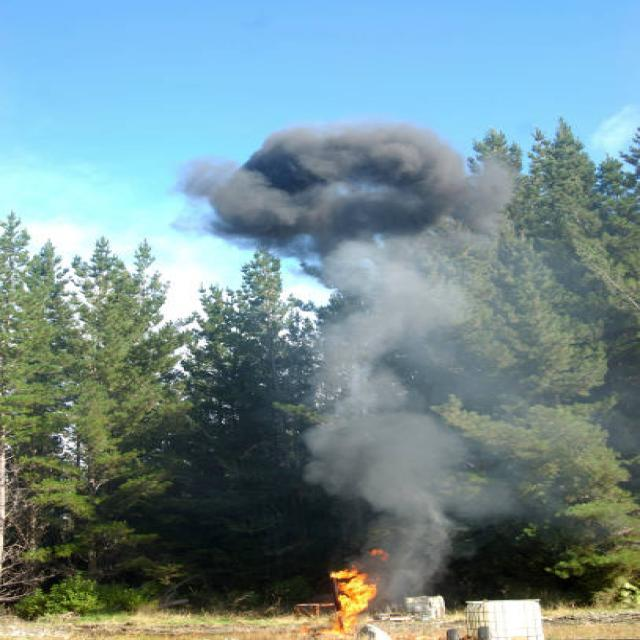Fire: (327, 568, 375, 634)
Smoke: (172, 128, 630, 568)
